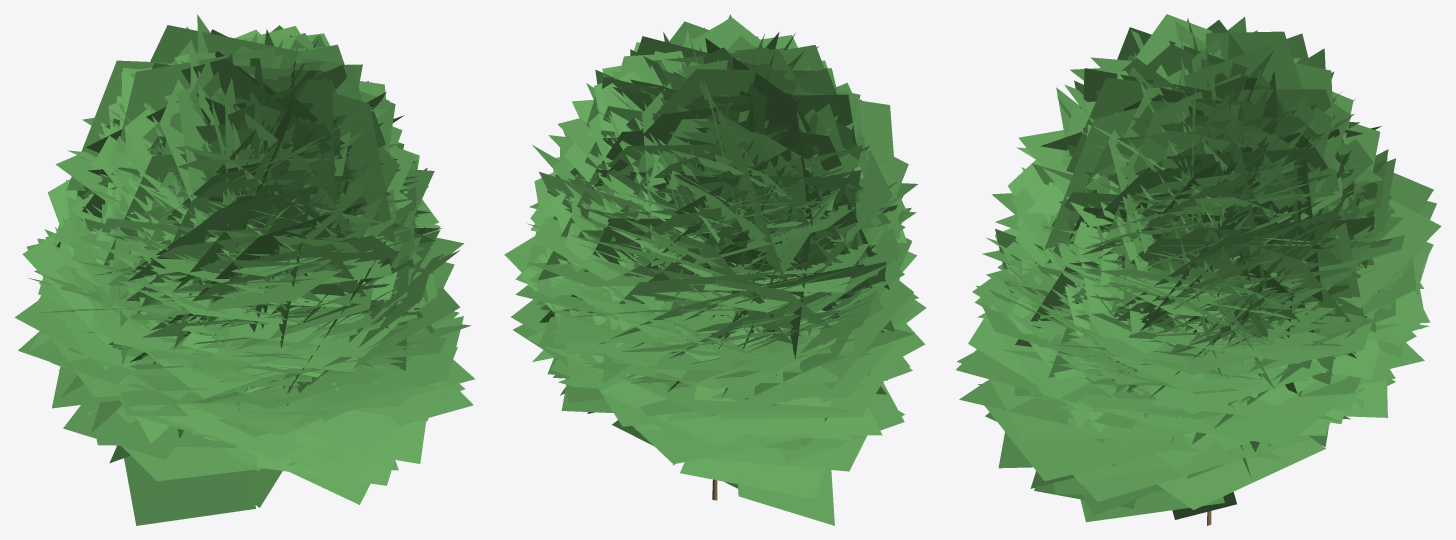
File: tree_oak.glb
3 renders of one model, left to right at view 1: azimuth 30°, elevation 25°; view 2: azimuth 150°, elevation 25°; view 3: azimuth 270°, elevation 25°, orthographic. The views are drawn at different scales.
Visible parts, largest first — view 1: leaves; view 2: leaves; view 3: leaves.
Boxes of the visible parts, box(x1,y1,x2,y2) form: leaves: box(15, 14, 474, 525); leaves: box(504, 14, 926, 525); leaves: box(956, 14, 1441, 522).
Size of the model in its own units: 7.28 by 8.65 by 7.82.
